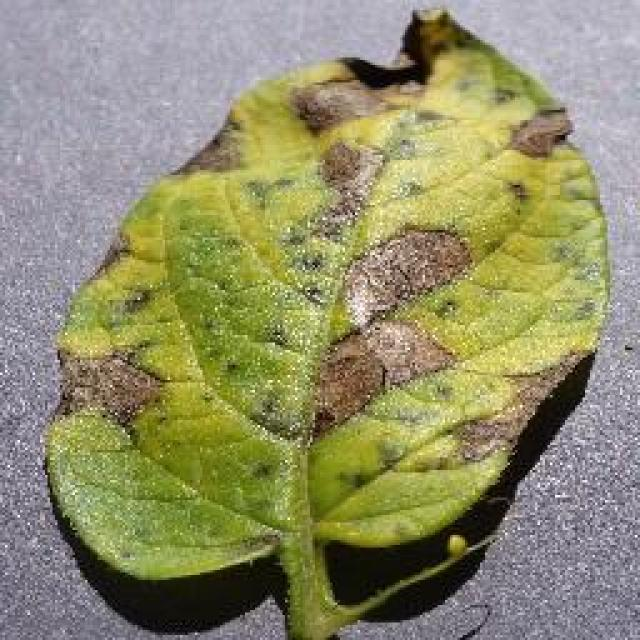early_blight: (37, 2, 615, 638)
